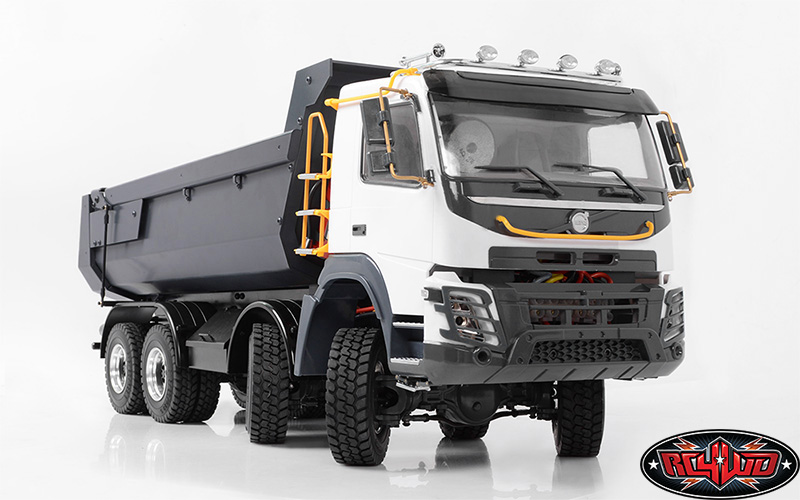truck: (71, 22, 698, 471)
